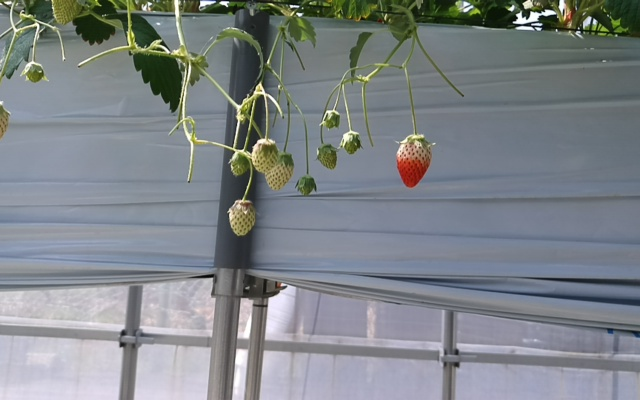GreenStrawberry: (263, 150, 295, 193), (227, 198, 259, 237), (249, 137, 280, 175), (226, 149, 252, 176), (314, 143, 339, 171), (341, 130, 363, 156)
MatureStrawberry: (394, 133, 434, 190)
